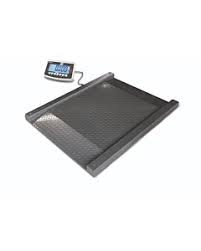Industrial Scale: (23, 61, 180, 179)
